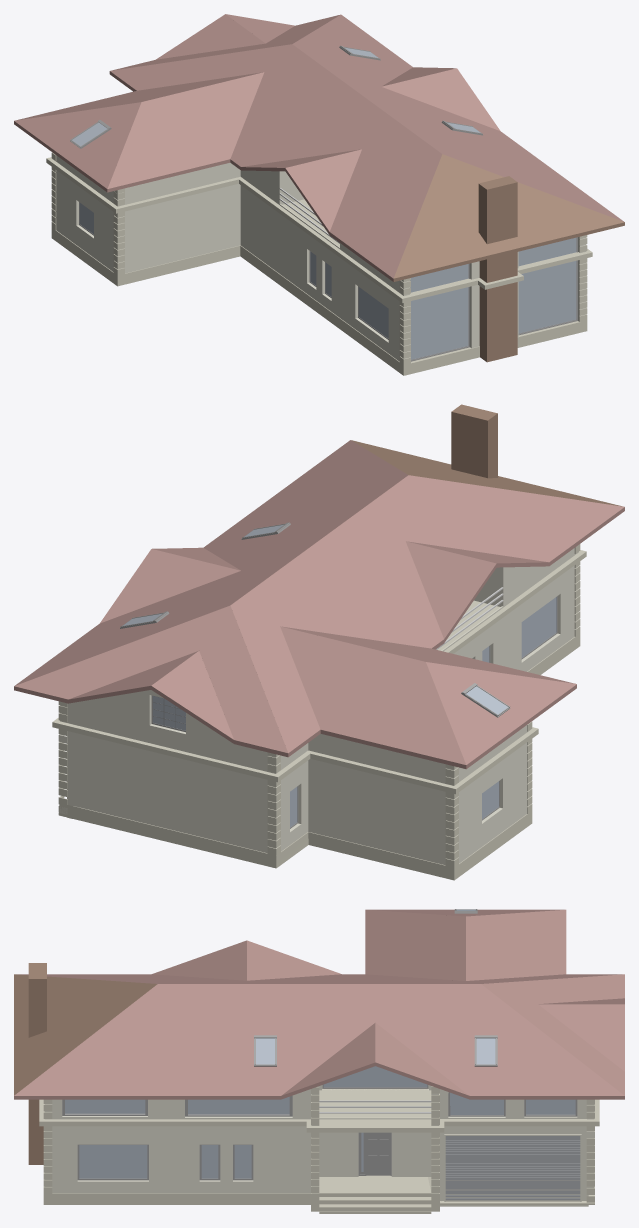
Rendered from home.glb.
3 views of the same model, one above another, from view 1: azimuth 30°, elevation 25°; view 2: azimuth 150°, elevation 25°; view 3: azimuth 270°, elevation 25° (orthographic). The views are drawn at different scales.
Parts seen in each view (by area): view 1: polySurface1608, window; view 2: polySurface1608, window; view 3: polySurface1608, window.
Part boxes in pixels (x1=…): polySurface1608: x1=14, y1=14, x2=624, y2=375; window: x1=72, y1=48, x2=576, y2=359; polySurface1608: x1=14, y1=404, x2=624, y2=880; window: x1=123, y1=525, x2=556, y2=827; polySurface1608: x1=14, y1=909, x2=624, y2=1213; window: x1=65, y1=909, x2=575, y2=1178.
Size of the model in its own units: 17.3 by 8.2 by 24.
